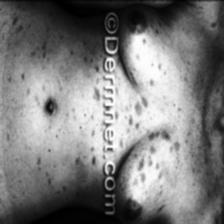Non-Cancerous Skin Condition: (122, 54, 172, 192), (76, 122, 101, 175), (96, 67, 104, 95)
